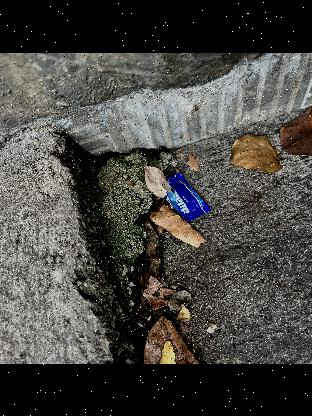Others: (158, 170, 216, 221)
